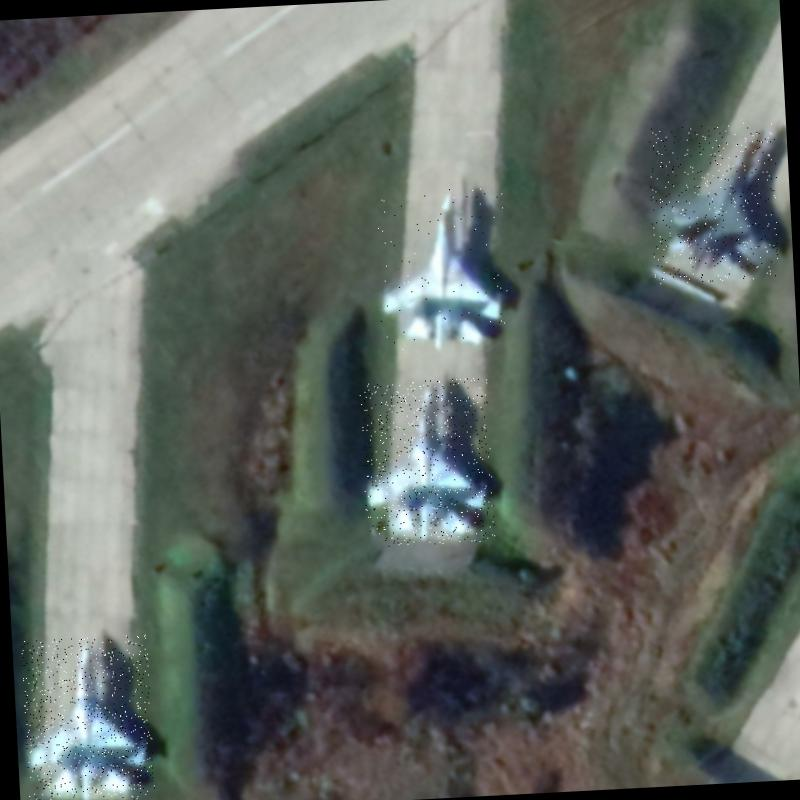A1: (360, 378, 496, 548), (374, 187, 510, 354), (21, 634, 156, 800), (647, 121, 782, 284)
